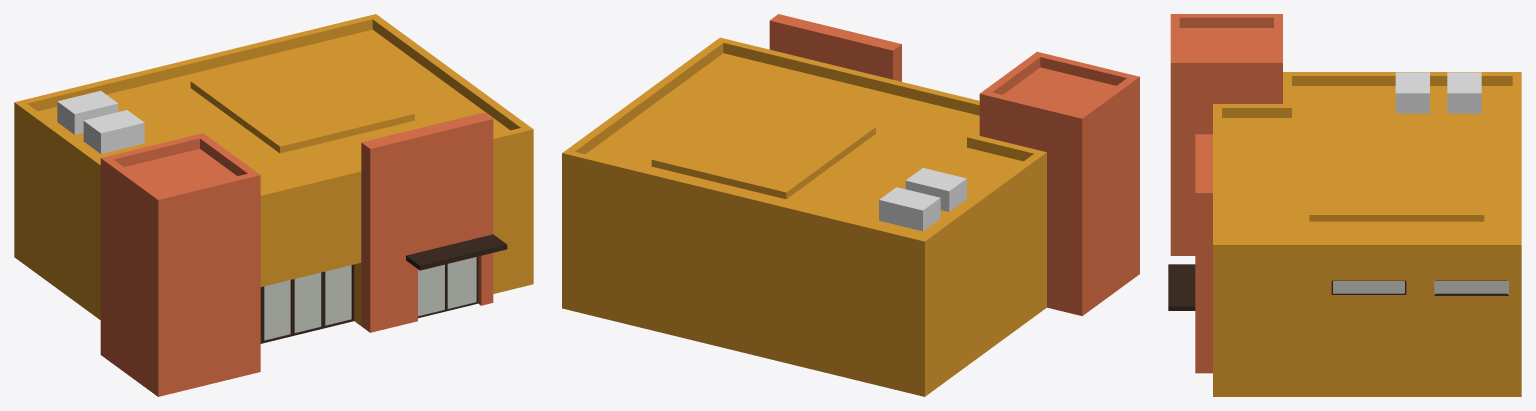
The model's file is mall.fbx.
3 views of the same model, side by side, from view 1: azimuth 30°, elevation 25°; view 2: azimuth 150°, elevation 25°; view 3: azimuth 270°, elevation 25° (orthographic). The views are drawn at different scales.
Parts seen in each view (by area): view 1: Cube, Cube.001, Cube.002, Cube.007, Cube.005, Cube.006, Cube.004; view 2: Cube, Cube.001, Cube.002, Cube.004, Cube.005; view 3: Cube, Cube.001, Cube.002, Cube.004, Cube.005, Cube.006.
Boxes of the visible parts, x1=… form: Cube: x1=14, y1=14, x2=533, y2=325; Cube.001: x1=100, y1=133, x2=260, y2=396; Cube.002: x1=361, y1=112, x2=493, y2=332; Cube.007: x1=260, y1=264, x2=354, y2=343; Cube.005: x1=83, y1=110, x2=144, y2=153; Cube.006: x1=406, y1=234, x2=507, y2=270; Cube.004: x1=57, y1=90, x2=118, y2=134; Cube: x1=562, y1=37, x2=1046, y2=396; Cube.001: x1=979, y1=51, x2=1139, y2=315; Cube.002: x1=769, y1=14, x2=901, y2=81; Cube.004: x1=879, y1=187, x2=940, y2=231; Cube.005: x1=905, y1=168, x2=966, y2=211; Cube: x1=1213, y1=72, x2=1521, y2=396; Cube.001: x1=1170, y1=14, x2=1282, y2=255; Cube.002: x1=1195, y1=134, x2=1212, y2=373; Cube.004: x1=1447, y1=72, x2=1481, y2=113; Cube.005: x1=1395, y1=72, x2=1429, y2=113; Cube.006: x1=1168, y1=264, x2=1195, y2=310.
Size of the model in its own units: 473 by 224 by 372.
